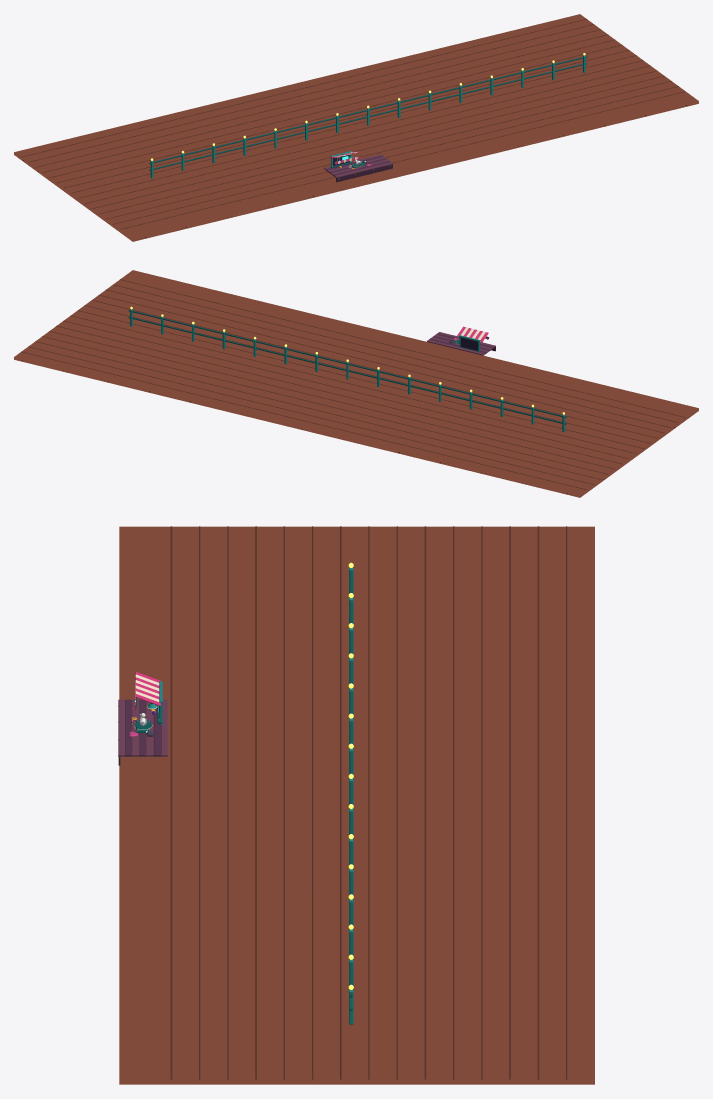
File: menu_booth.glb
3 views of the same model, one above another, from view 1: azimuth 30°, elevation 25°; view 2: azimuth 150°, elevation 25°; view 3: azimuth 270°, elevation 25° (orthographic). The views are drawn at different scales.
Visible parts, largest first — view 1: Booth; view 2: Booth; view 3: Booth.
Boxes of the visible parts, x1=… form: Booth: x1=14, y1=14, x2=698, y2=241; Booth: x1=14, y1=270, x2=698, y2=497; Booth: x1=118, y1=526, x2=594, y2=1084.
Size of the model in its own units: 44 by 2.29 by 16.04.
